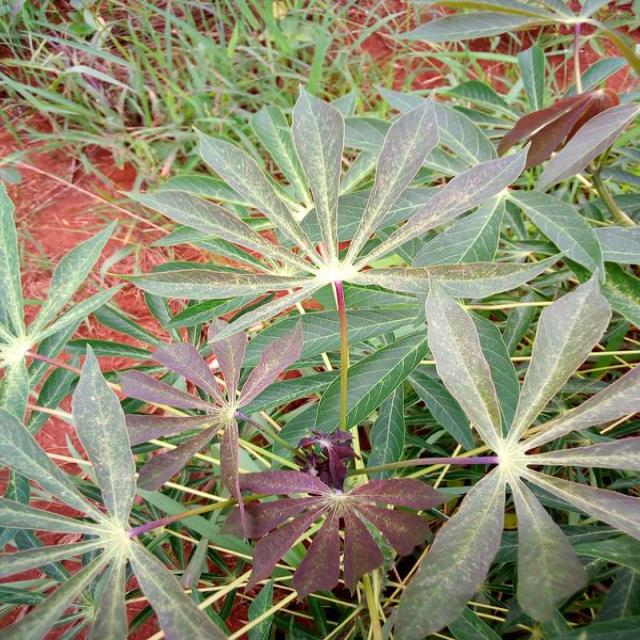cassava leaf: (1, 77, 638, 637), (391, 268, 638, 638)
